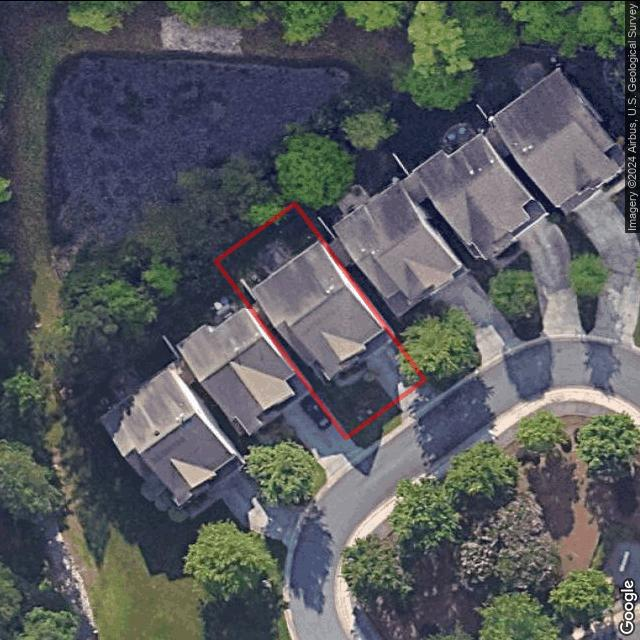Driveway: (361, 327, 425, 400)
Extra-Driveway: (396, 379, 445, 422)
Extra-Lawn: (348, 400, 403, 449)
House: (251, 240, 384, 377)
Lawn: (215, 202, 425, 436)
Other: (256, 236, 297, 278)
Sidewalk: (334, 364, 375, 385)
